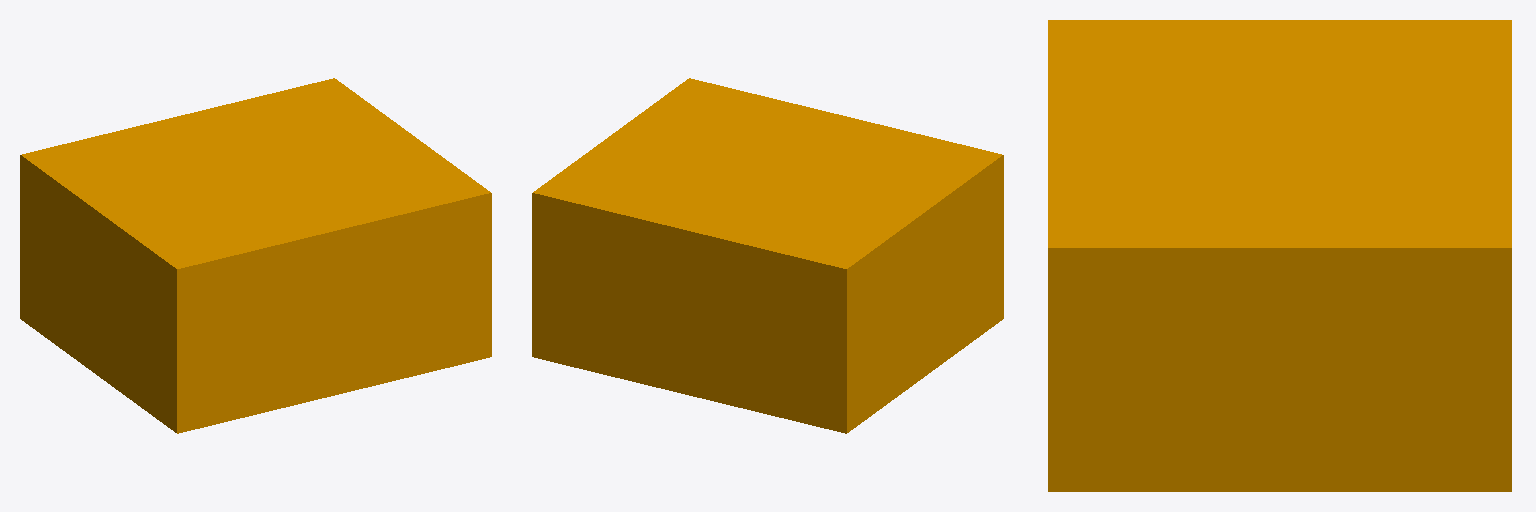
robot.urdf — 2x2:
<?xml version='1.0' encoding='UTF-8'?>
<robot name="2x2">
  <link name="base_link">
    <inertial>
      <origin xyz="0.0 0.0 0.0" rpy="0.0 0.0 0.0"/>
      <mass value="0.01"/>
      <inertia ixx="0.1" ixy="0.0" ixz="0.0" iyy="0.1" iyz="0.0" izz="0.1"/>
    </inertial>
    <visual>
      <geometry>
        <box size="0.022 0.019 0.011"/>
      </geometry>
      <material name=""/>
      <origin xyz="0.0 0.0 0.0" rpy="0.0 0.0 0.0"/>
    </visual>
    <collision>
      <geometry>
        <box size="0.022 0.019 0.011"/>
      </geometry>
      <origin xyz="0.0 0.0 0.0" rpy="0.0 0.0 0.0"/>
    </collision>
  </link>
  <material name="">
    <color rgba="0.684 0.881 0.812 1.   "/>
  </material>
  <contact>
    <lateral_friction value="1.0"/>
    <rolling_friction value="0.0"/>
    <contact_cfm value="0.0"/>
    <contact_erp value="1.0"/>
  </contact>
</robot>

--- Facts derived from the render (not from the file) ---
The picture shows the robot from 3 angles, left to right: view 1: azimuth 30°, elevation 25°; view 2: azimuth 150°, elevation 25°; view 3: azimuth 270°, elevation 25°; orthographic projection.
Robot: 2x2 — 1 links, 0 joints (none); root link base_link; default pose: every joint at zero.
Links seen in each view (by area): view 1: base_link; view 2: base_link; view 3: base_link.
Link boxes in pixels (<box>): base_link: <box>20,78,491,433</box>; base_link: <box>532,78,1003,433</box>; base_link: <box>1048,20,1511,491</box>.
Size in the robot's own frame: 0.022 by 0.019 by 0.011 metres.
Geometry: primitives only (box / cylinder / sphere), no mesh files.